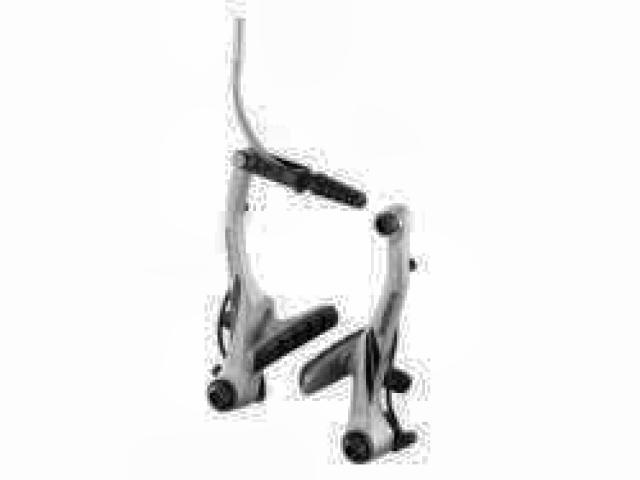rim_brake: (208, 141, 418, 463)
